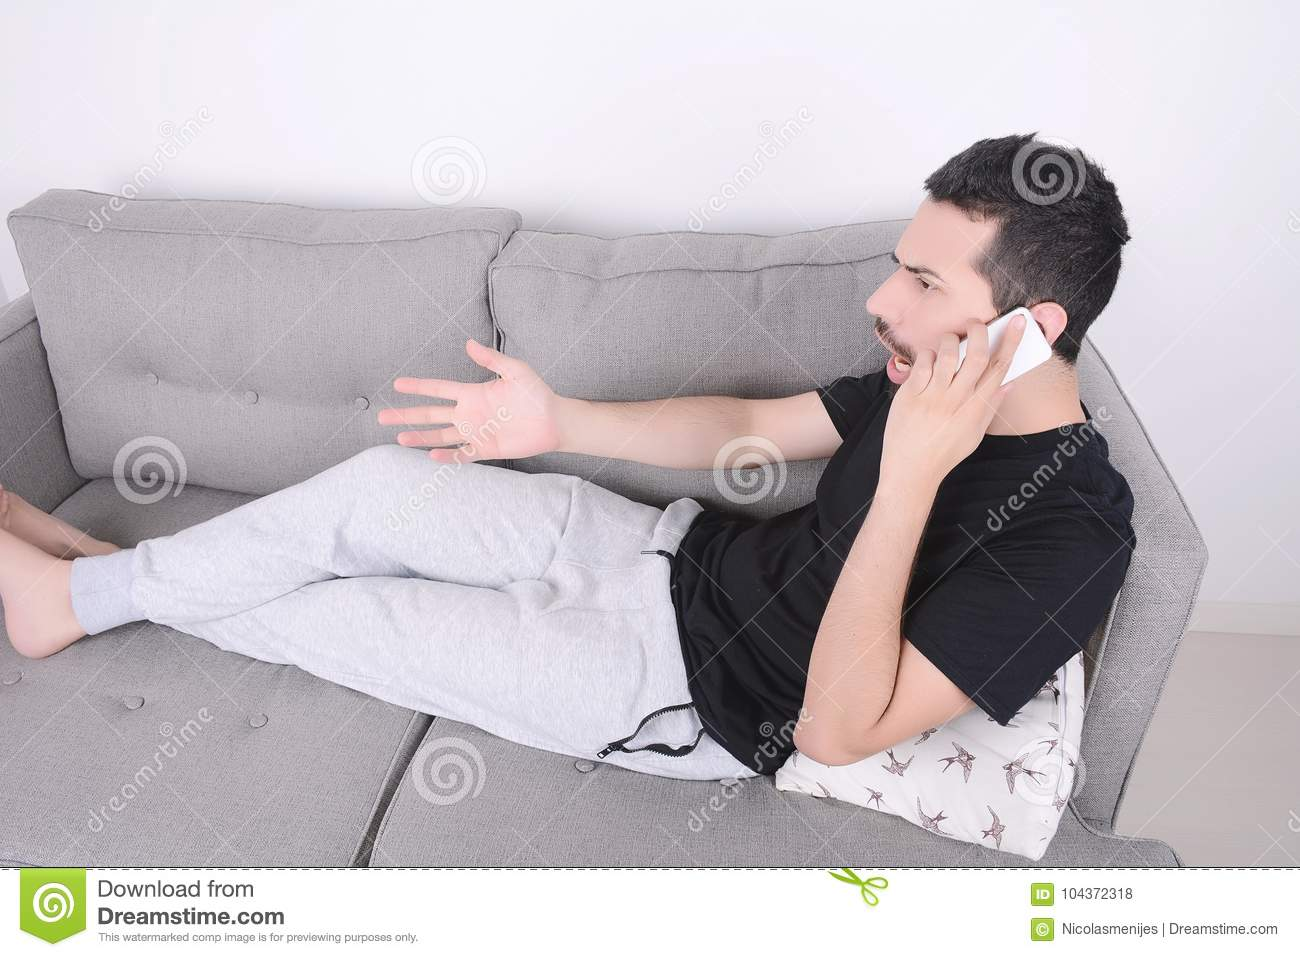phone: (939, 304, 1051, 396)
talk: (864, 246, 1050, 487)
